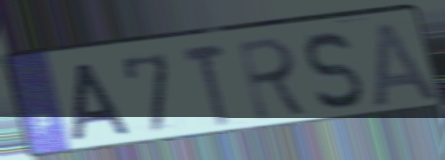7: (118, 50, 172, 135)
A: (369, 18, 442, 111), (69, 59, 135, 145)
R: (234, 34, 313, 124)
S: (303, 28, 367, 113)
T: (179, 42, 233, 129)
